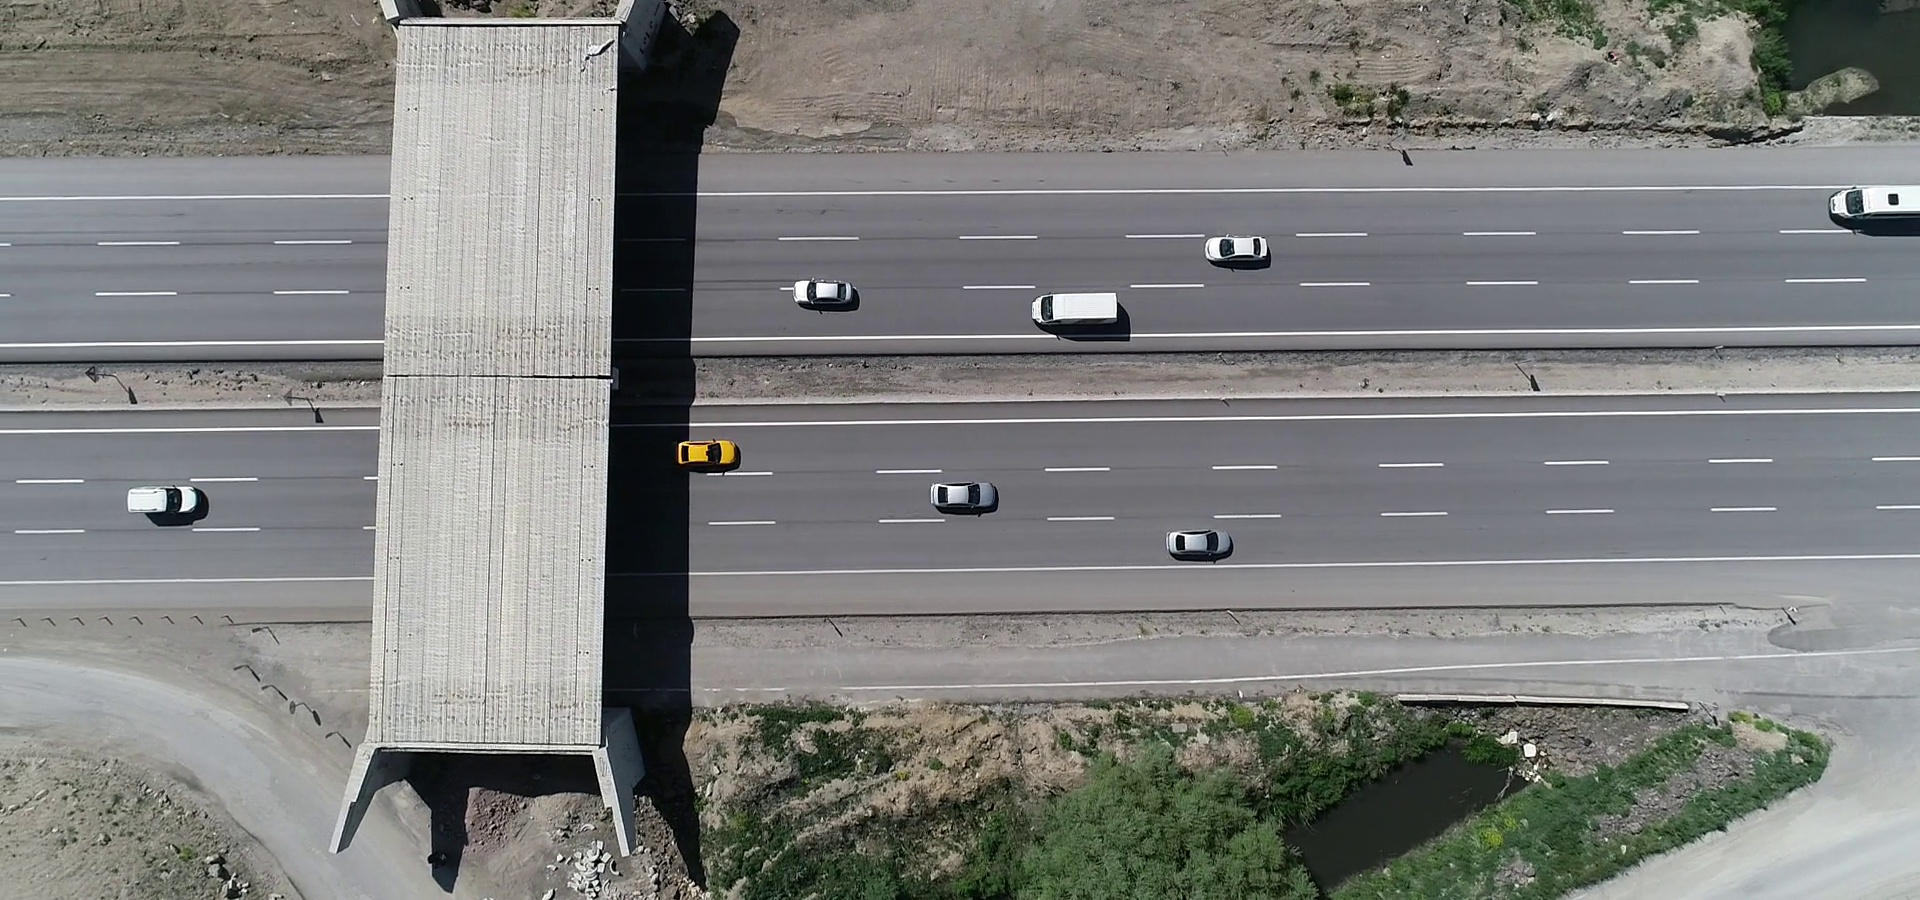araba: (111, 478, 217, 527), (1826, 181, 1920, 223), (1029, 290, 1120, 331), (1155, 527, 1244, 558), (1202, 233, 1273, 272), (787, 280, 858, 312), (671, 440, 740, 465), (931, 482, 998, 507)
